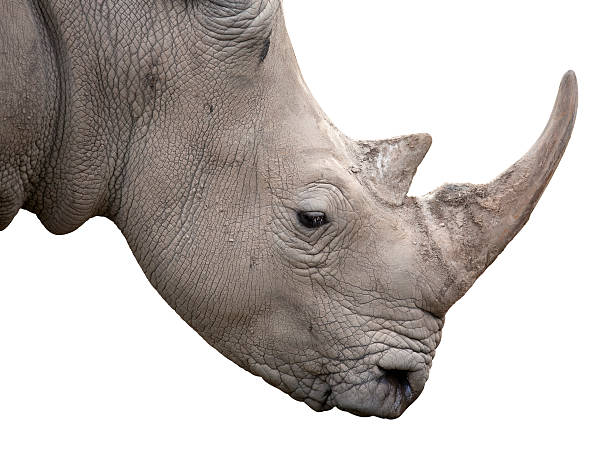rhino: (202, 9, 582, 453)
